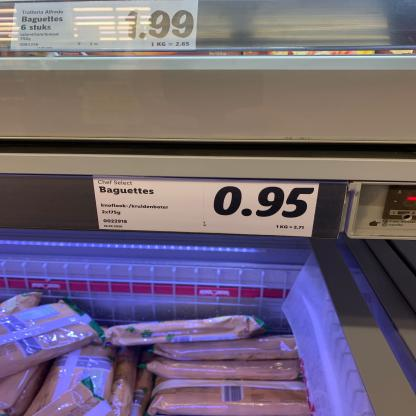prtg: (94, 177, 321, 239), (12, 1, 200, 52)
